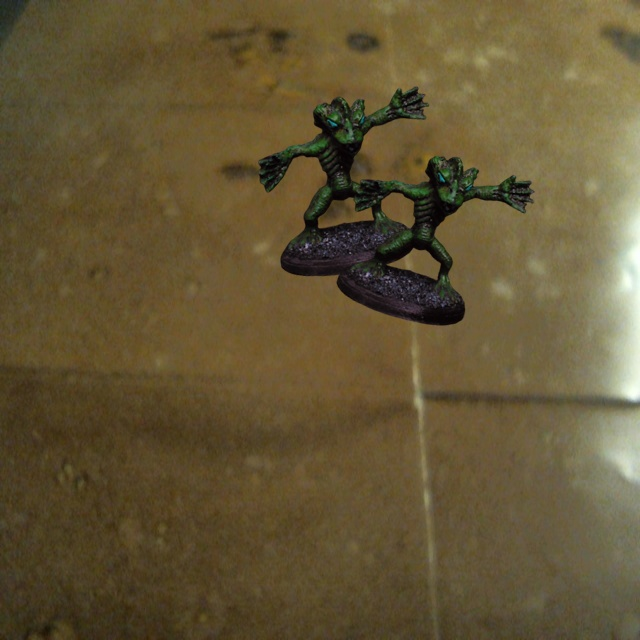pieza_juego: (336, 156, 534, 325), (258, 86, 428, 275)
